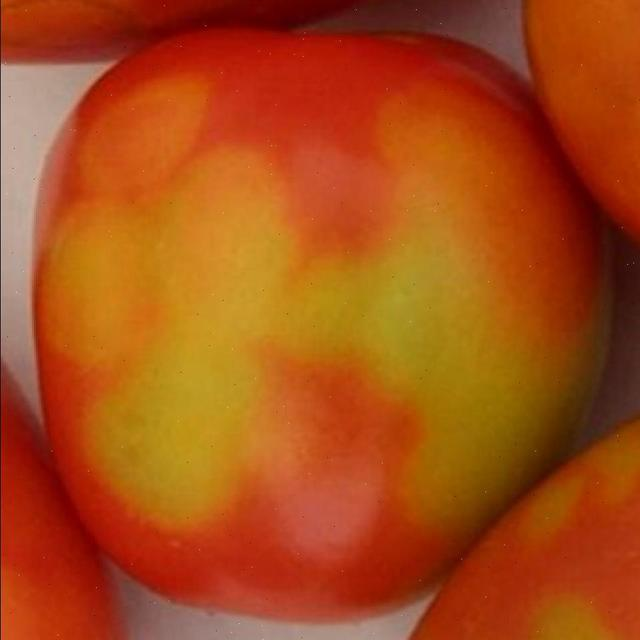Spotted wilt Virus Fruit: (22, 18, 409, 417)
